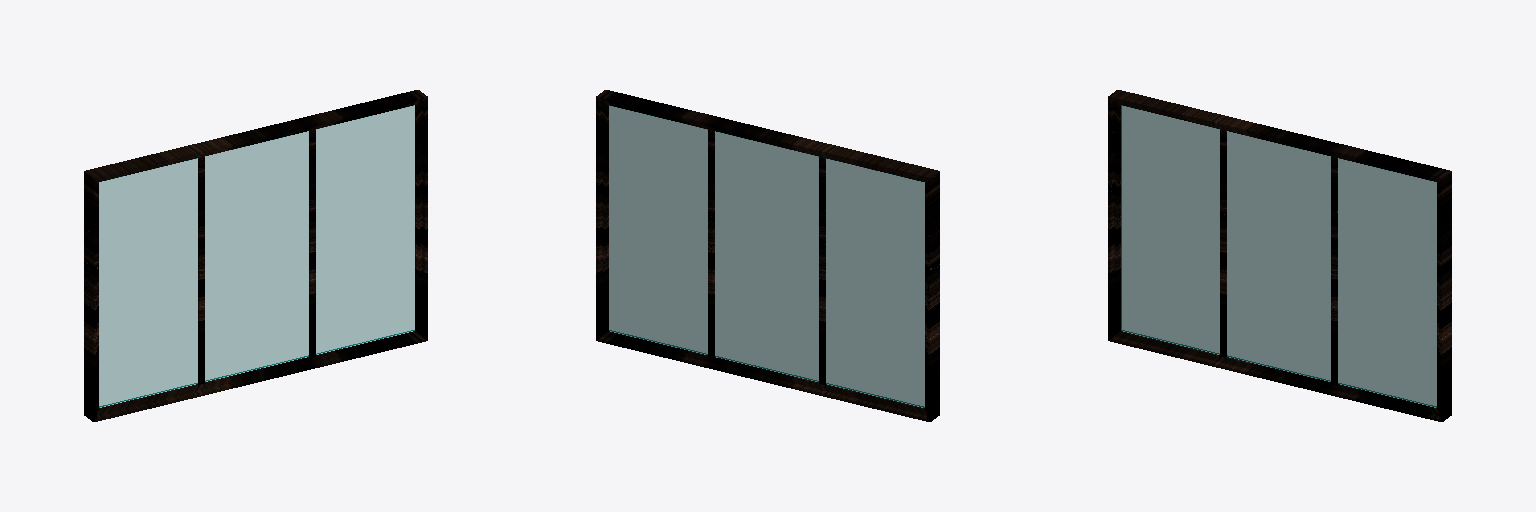
3 views of the same model, side by side, from view 1: azimuth 30°, elevation 25°; view 2: azimuth 150°, elevation 25°; view 3: azimuth 330°, elevation 25° (orthographic).
Visible parts, largest first — view 1: DOOR; view 2: DOOR; view 3: DOOR.
Part boxes in pixels (left/top/right/bottom): DOOR: left=84, top=90, right=427, bottom=421; DOOR: left=596, top=90, right=939, bottom=421; DOOR: left=1108, top=90, right=1451, bottom=421.
Bounding box in the file's own units: 120 × 84 × 6.
2 materials, 2 textured.